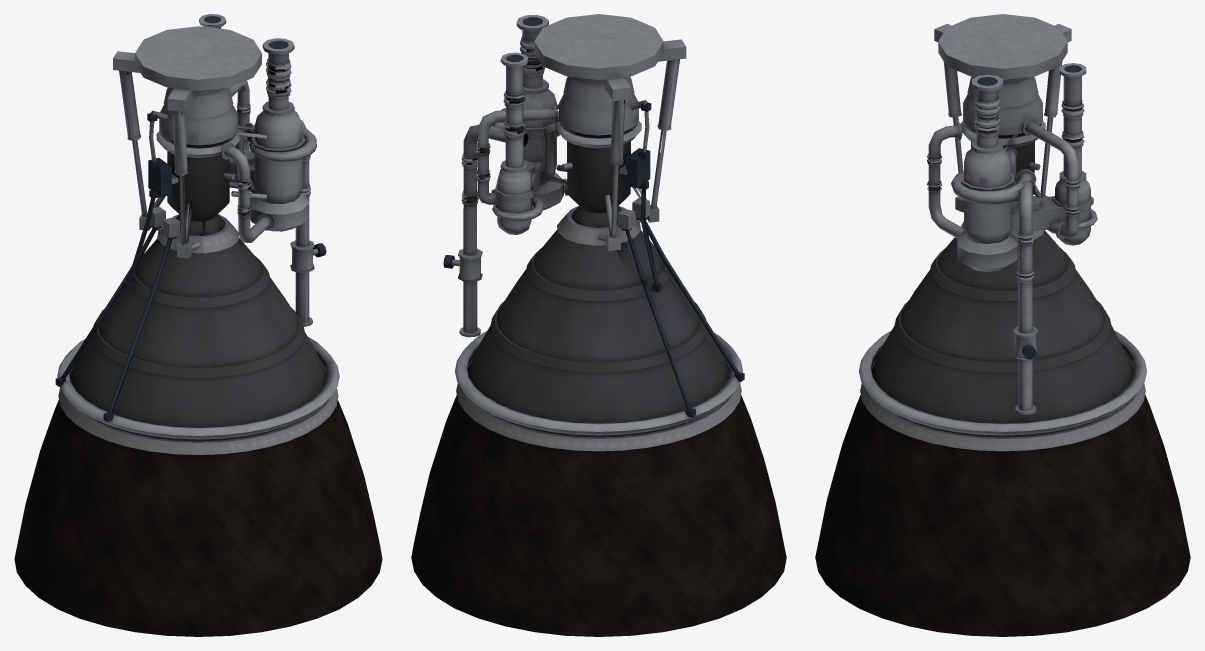
The model's file is eng_hydrolox_vacuum.glb.
The picture shows the model from 3 angles, left to right: view 1: azimuth 30°, elevation 25°; view 2: azimuth 150°, elevation 25°; view 3: azimuth 270°, elevation 25°; orthographic projection. The views are drawn at different scales.
Visible parts, largest first — view 1: eng_hydrolox_vacuum_mesh; view 2: eng_hydrolox_vacuum_mesh; view 3: eng_hydrolox_vacuum_mesh.
Part boxes in pixels (x1,y1,x2,y2): eng_hydrolox_vacuum_mesh: (14, 14, 382, 636); eng_hydrolox_vacuum_mesh: (411, 14, 786, 636); eng_hydrolox_vacuum_mesh: (815, 14, 1190, 636).
Bounding box in the file's own units: 1.45 × 2.2 × 1.45.
Materials: 1 (1 with a texture image).
